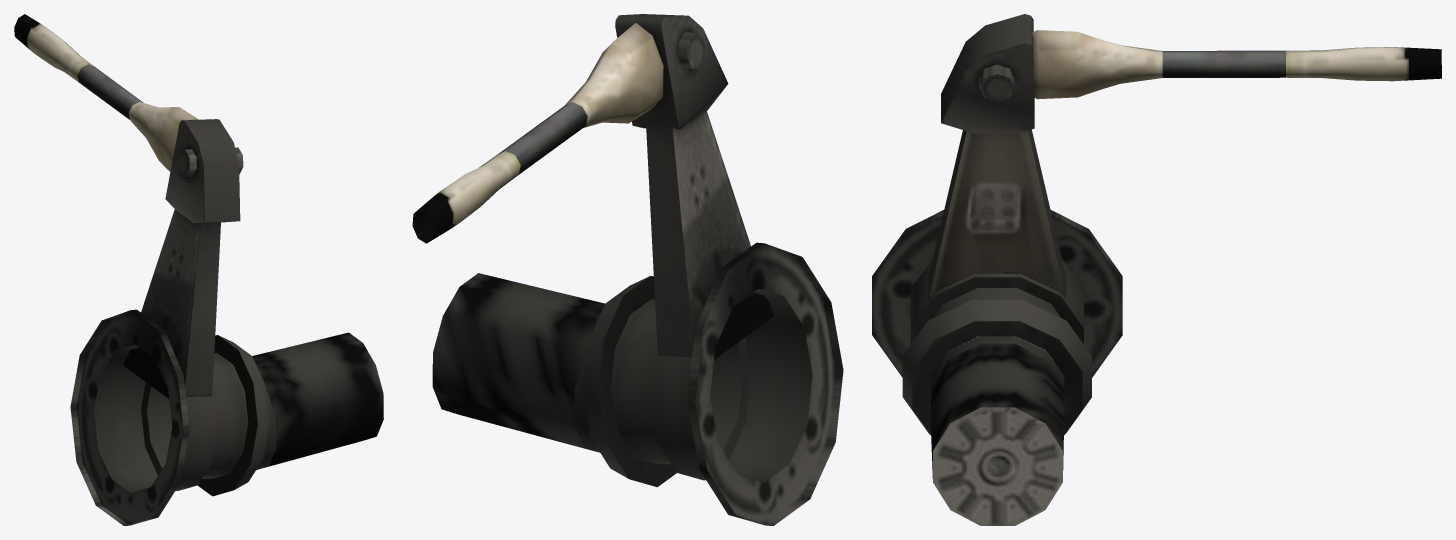
File: left_axis_jointfix.dae
3 views of the same model, side by side, from view 1: azimuth 30°, elevation 25°; view 2: azimuth 150°, elevation 25°; view 3: azimuth 270°, elevation 25° (orthographic). The views are drawn at different scales.
Parts seen in each view (by area): view 1: suspension_axel_L, suspension_rod_L; view 2: suspension_axel_L, suspension_rod_L; view 3: suspension_axel_L, suspension_rod_L.
Part boxes in pixels (x1,y1,x2,y2): suspension_axel_L: [70, 209, 383, 525]; suspension_rod_L: [14, 14, 243, 223]; suspension_axel_L: [432, 111, 843, 525]; suspension_rod_L: [412, 14, 728, 243]; suspension_axel_L: [872, 129, 1122, 525]; suspension_rod_L: [941, 14, 1441, 133].
Size of the model in its own units: 0.2798 by 0.4622 by 0.3959.
1 material, 1 textured.
